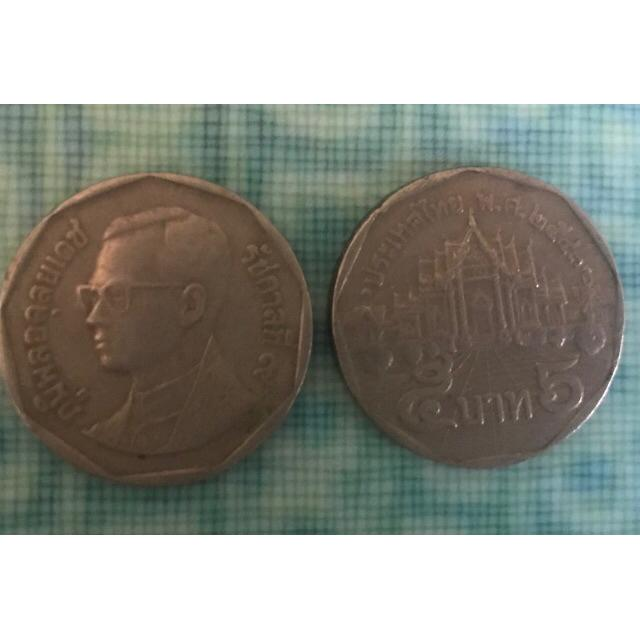5-baht: (0, 157, 321, 511), (334, 156, 631, 470)
